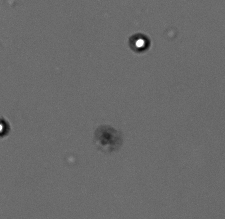Dead Cell: (95, 126, 120, 148)
Living Cell: (128, 31, 150, 54), (1, 116, 10, 141)
